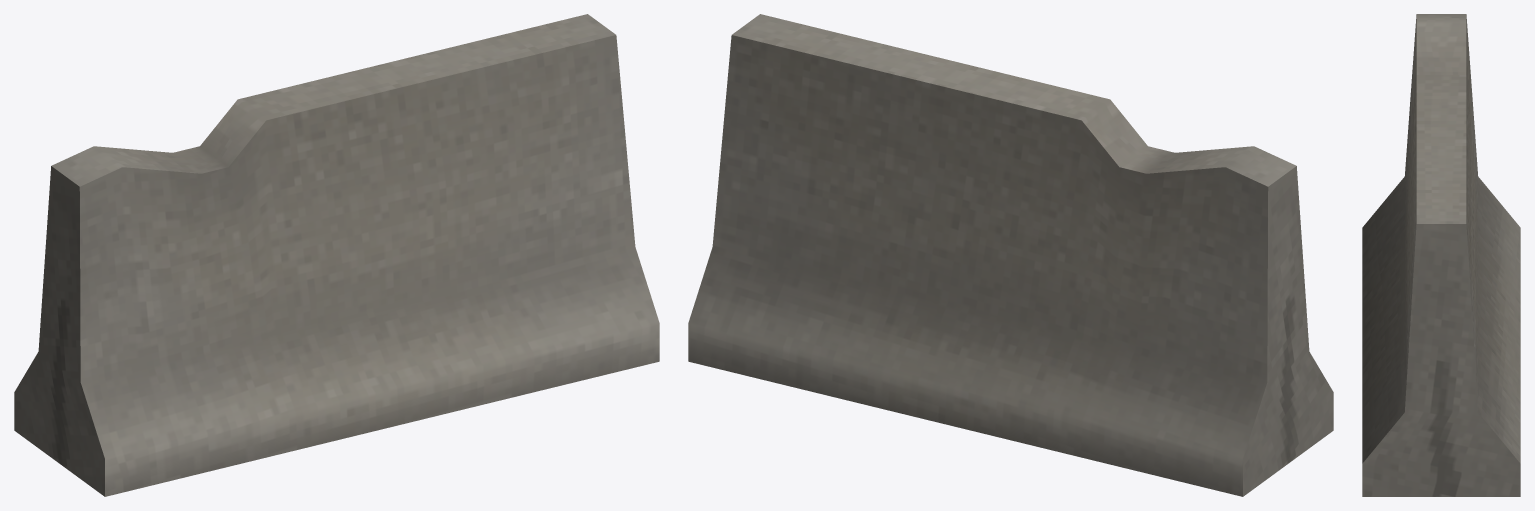
The model's file is jerseybarrier_2.fbx.
3 views of the same model, side by side, from view 1: azimuth 30°, elevation 25°; view 2: azimuth 150°, elevation 25°; view 3: azimuth 270°, elevation 25° (orthographic). The views are drawn at different scales.
Visible parts, largest first — view 1: jerseybarrier2; view 2: jerseybarrier2; view 3: jerseybarrier2.
Boxes of the visible parts, left/top/right/bottom form: jerseybarrier2: left=14, top=14, right=659, bottom=496; jerseybarrier2: left=688, top=14, right=1333, bottom=496; jerseybarrier2: left=1362, top=14, right=1520, bottom=496.
Size of the model in its own units: 3.61 by 1.91 by 1.02.
